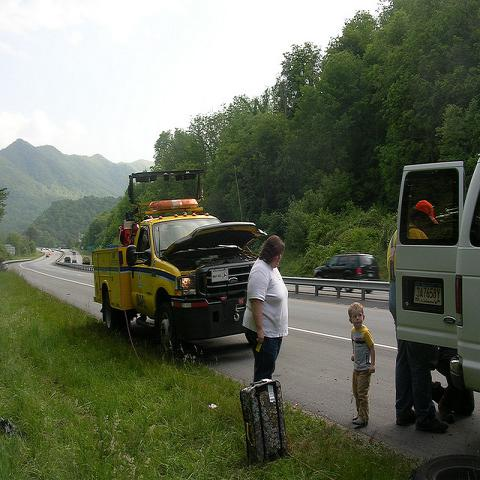car: (394, 155, 479, 389), (316, 253, 381, 294), (82, 257, 90, 264), (63, 256, 71, 263), (46, 251, 50, 258), (72, 252, 77, 255), (49, 251, 52, 255), (72, 260, 76, 263)
truck: (96, 166, 266, 360), (394, 149, 480, 394)
